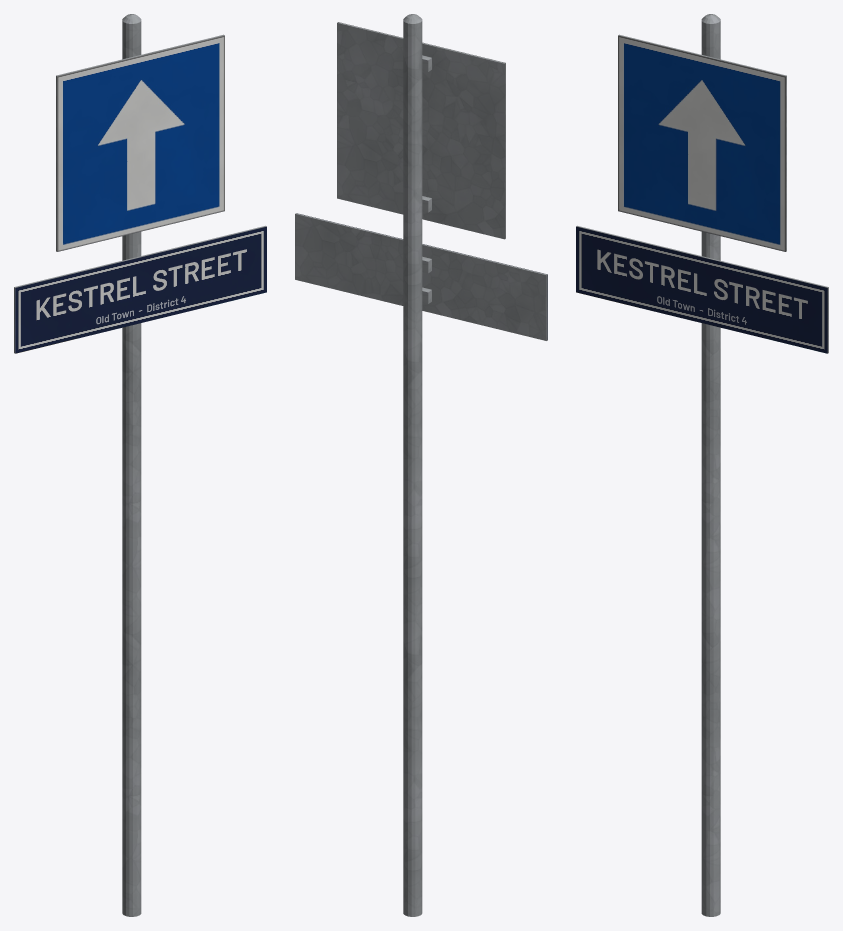
Rendered from SignOneWayStreetName.obj.
The picture shows the model from 3 angles, left to right: view 1: azimuth 30°, elevation 25°; view 2: azimuth 150°, elevation 25°; view 3: azimuth 330°, elevation 25°; orthographic projection.
Parts seen in each view (by area): view 1: Signs, Galvanised; view 2: Galvanised; view 3: Signs, Galvanised.
Part boxes in pixels (left/top/right/bottom): Signs: left=15, top=35, right=266, bottom=353; Galvanised: left=14, top=14, right=266, bottom=916; Galvanised: left=295, top=14, right=547, bottom=916; Signs: left=576, top=35, right=827, bottom=353; Galvanised: left=576, top=14, right=828, bottom=916.
Bounding box in the file's own units: 0.9 × 3.07 × 0.0872.
2 materials, 2 textured.
